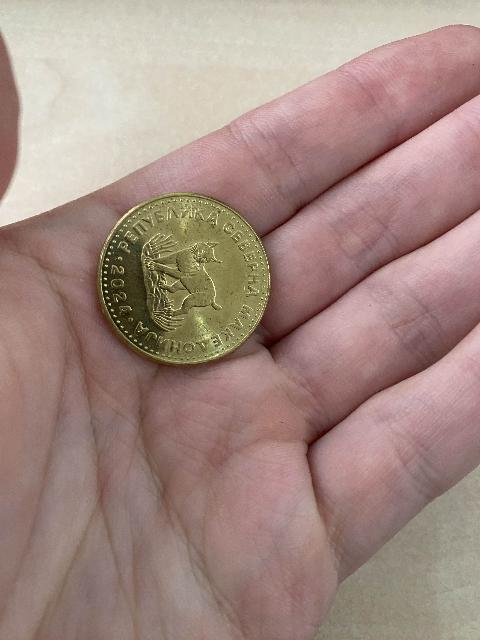5_coin: (98, 193, 269, 364)
